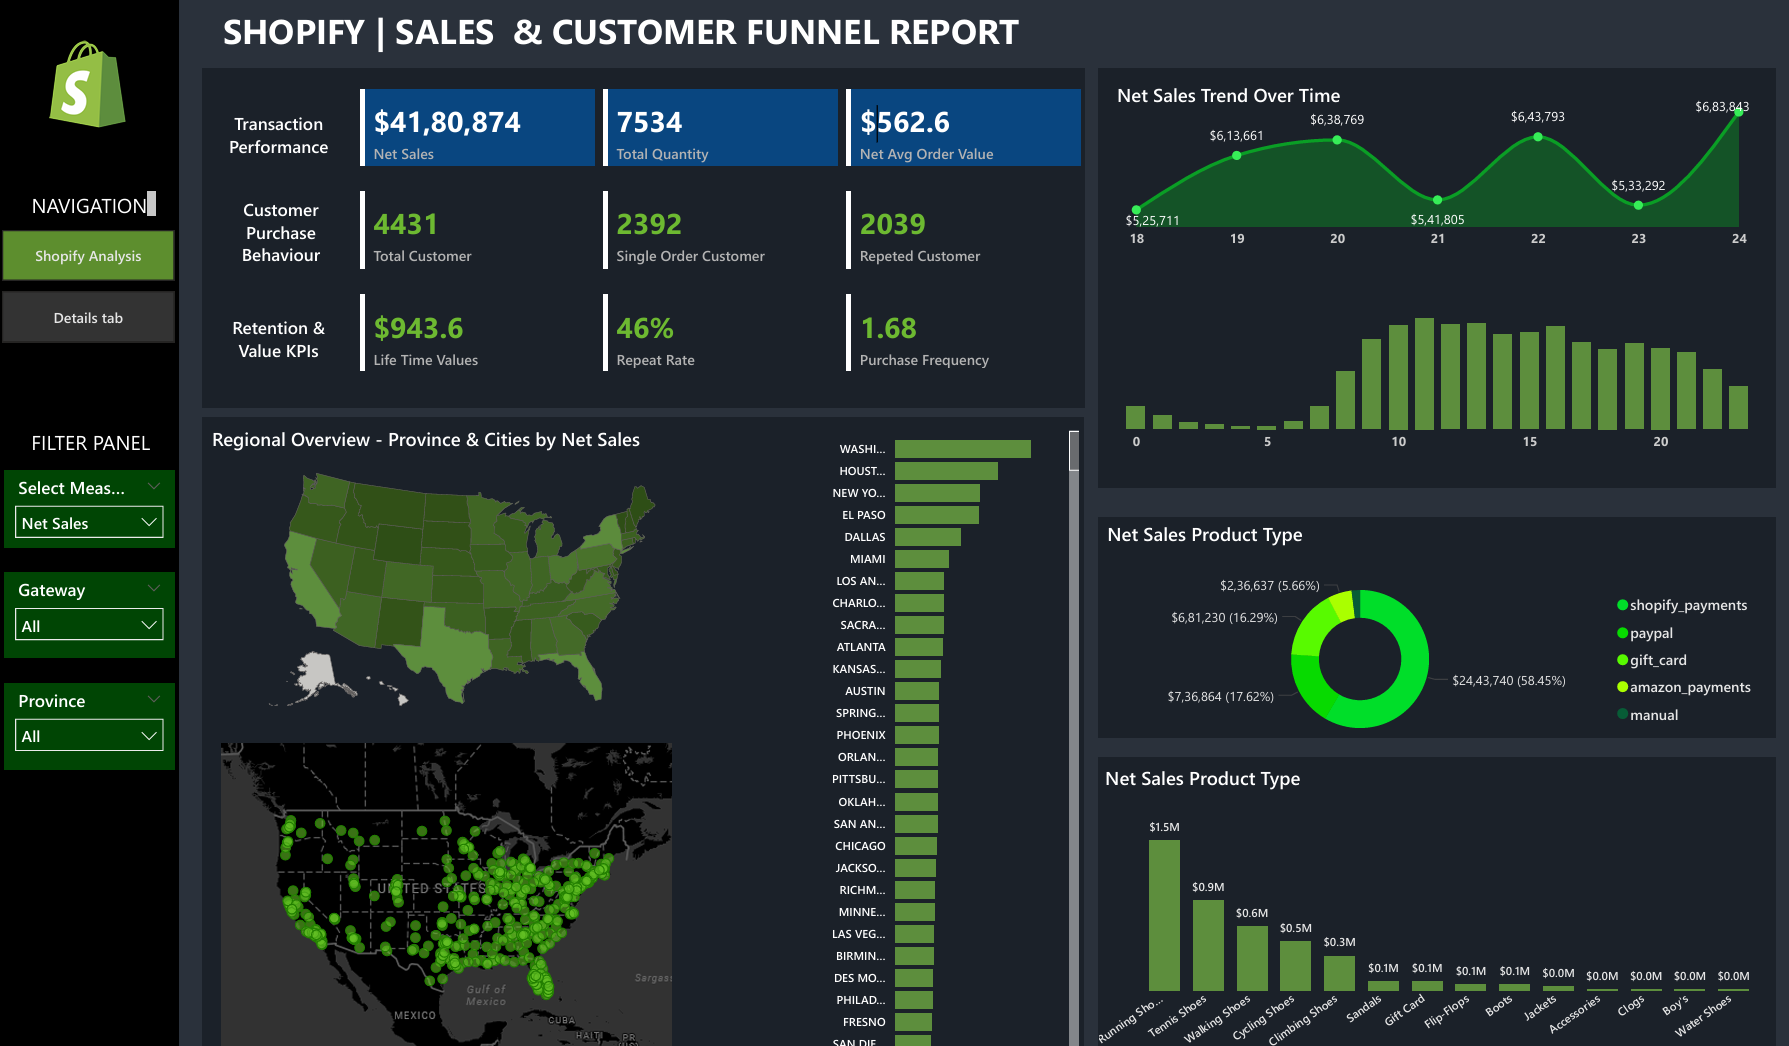

Layout of this report page (visuals, bound fields, positions):
{"tool":"powerbi","page":{"name":"Shopify Analysis","canvas":[1700,1000],"ordinal":0},"visuals":[{"type":"shape","box":[191,386.6,819.4,604.5],"z":0},{"type":"shape","box":[190.6,63,820.7,315.1],"z":1000},{"type":"shape","box":[0,0,170.1,1000.3],"z":2000},{"type":"textbox","box":[204.8,0,754.6,63],"z":3000},{"type":"cardVisual","fields":{"Data":["shopify_sales.Net Sales","shopify_sales.Total Quantity","shopify_sales.Net Avg Order Value"]},"box":[333.3,76.5,679.4,81.3],"z":4000},{"type":"cardVisual","fields":{"Data":["shopify_sales.Total per"]},"box":[191.4,78.1,141.9,94.1],"z":5000},{"type":"cardVisual","fields":{"Data":["shopify_sales.Total Customer","shopify_sales.Single Order Customer","shopify_sales.Repeted Customer"]},"box":[333.3,172.2,679.4,81.3],"z":6000},{"type":"cardVisual","fields":{"Data":["shopify_sales.Customer Purchase Behaviour"]},"box":[193,157.9,141.9,124.4],"z":7000},{"type":"cardVisual","fields":{"Data":["shopify_sales.Life Time Values","shopify_sales.Repeat Rate","shopify_sales.Purchase Frequency"]},"box":[333.3,267.9,679.4,81.3],"z":8000},{"type":"cardVisual","fields":{"Data":["shopify_sales.Retention"]},"box":[191.4,267.9,141.9,102.1],"z":9000},{"type":"slicer","fields":{"Values":["Select Measure.Select Measure"]},"box":[6.9,435.8,158.3,72],"z":10000},{"type":"shapeMap","fields":{"Value":["shopify_sales.Net Sales"],"Category":["shopify_sales.Billing Address Province"]},"box":[204.8,422.2,455,250],"z":11000},{"type":"map","fields":{"Category":["shopify_sales.CLocation"]},"box":[204.5,685.1,428.4,314.9],"z":12000},{"type":"clusteredBarChart","fields":{"Y":["shopify_sales.Net Sales"],"Category":["shopify_sales.CITY"]},"box":[759.7,386.6,250.7,604.5],"z":13000},{"type":"cardVisual","fields":{"Data":["shopify_sales.Map Title"]},"box":[182.7,370.2,532.5,59.9],"z":14000},{"type":"shape","box":[1023.9,62.7,630,390],"z":15000},{"type":"areaChart","fields":{"Y":["shopify_sales.Net Sales"],"Category":["shopify_sales.Invoice Date.Variation.Date Hierarchy.Day"]},"box":[1044.4,80.3,589.2,159.1],"z":16000},{"type":"columnChart","fields":{"Y":["shopify_sales.Net Sales"],"Category":["shopify_sales.Hour"]},"box":[1044.4,253.6,589.2,174.9],"z":17000},{"type":"cardVisual","fields":{"Data":["shopify_sales.Trend Title"]},"box":[1023.9,50.4,349.7,59.9],"z":18000},{"type":"shape","box":[1023.9,480.5,630.1,204.8],"z":19000},{"type":"donutChart","fields":{"Y":["shopify_sales.Net Sales"],"Category":["shopify_sales.Gateway"]},"box":[1024.3,524.8,620.9,173.3],"z":20000},{"type":"cardVisual","fields":{"Data":["shopify_sales.Gateway Title"]},"box":[1015,458,450.5,66.2],"z":21000},{"type":"shape","box":[1023.9,702.6,630.1,280.4],"z":22000},{"type":"columnChart","fields":{"Y":["shopify_sales.Net Sales"],"Category":["shopify_sales.Product Type"]},"box":[1019.6,740.6,630.3,242.7],"z":23000},{"type":"cardVisual","fields":{"Data":["shopify_sales.Product Title"]},"box":[1013.2,685.1,532.5,60.4],"z":24000},{"type":"image","box":[26.8,31.5,115,91.4],"z":25000},{"type":"slicer","fields":{"Values":["shopify_sales.Gateway"]},"box":[6.9,530.8,158.3,79.2],"z":26000},{"type":"slicer","fields":{"Values":["shopify_sales.Billing Address Province"]},"box":[6.9,634.4,158.3,79.2],"z":27000},{"type":"pageNavigator","box":[4.7,212.7,160.7,105.5],"z":28000},{"type":"textbox","box":[26.8,171.7,126,34.7],"z":29000},{"type":"textbox","box":[26.8,392.3,138.6,44.1],"z":30000}]}

Visuals, with their boxes on the page's 1700x1000 design canvas (x1, y1, x2, y2). These are canvas units, not pixel positions in the 1789x1046 screenshot, which may show the page scaled, cropped or inside an application window:
shape: [x1=191, y1=387, x2=1010, y2=991]
shape: [x1=191, y1=63, x2=1011, y2=378]
shape: [x1=0, y1=0, x2=170, y2=1000]
textbox: [x1=205, y1=0, x2=959, y2=63]
cardVisual - shopify_sales.Net Sales x shopify_sales.Total Quantity: [x1=333, y1=76, x2=1013, y2=158]
cardVisual - shopify_sales.Total per: [x1=191, y1=78, x2=333, y2=172]
cardVisual - shopify_sales.Total Customer x shopify_sales.Single Order Customer: [x1=333, y1=172, x2=1013, y2=254]
cardVisual - shopify_sales.Customer Purchase Behaviour: [x1=193, y1=158, x2=335, y2=282]
cardVisual - shopify_sales.Life Time Values x shopify_sales.Repeat Rate: [x1=333, y1=268, x2=1013, y2=349]
cardVisual - shopify_sales.Retention: [x1=191, y1=268, x2=333, y2=370]
slicer - Select Measure.Select Measure: [x1=7, y1=436, x2=165, y2=508]
shapeMap - shopify_sales.Net Sales x shopify_sales.Billing Address Province: [x1=205, y1=422, x2=660, y2=672]
map - shopify_sales.CLocation: [x1=204, y1=685, x2=633, y2=1000]
clusteredBarChart - shopify_sales.Net Sales x shopify_sales.CITY: [x1=760, y1=387, x2=1010, y2=991]
cardVisual - shopify_sales.Map Title: [x1=183, y1=370, x2=715, y2=430]
shape: [x1=1024, y1=63, x2=1654, y2=453]
areaChart - shopify_sales.Net Sales x shopify_sales.Invoice Date.Variation.Date Hierarchy.Day: [x1=1044, y1=80, x2=1634, y2=239]
columnChart - shopify_sales.Net Sales x shopify_sales.Hour: [x1=1044, y1=254, x2=1634, y2=428]
cardVisual - shopify_sales.Trend Title: [x1=1024, y1=50, x2=1374, y2=110]
shape: [x1=1024, y1=480, x2=1654, y2=685]
donutChart - shopify_sales.Net Sales x shopify_sales.Gateway: [x1=1024, y1=525, x2=1645, y2=698]
cardVisual - shopify_sales.Gateway Title: [x1=1015, y1=458, x2=1466, y2=524]
shape: [x1=1024, y1=703, x2=1654, y2=983]
columnChart - shopify_sales.Net Sales x shopify_sales.Product Type: [x1=1020, y1=741, x2=1650, y2=983]
cardVisual - shopify_sales.Product Title: [x1=1013, y1=685, x2=1546, y2=746]
image: [x1=27, y1=32, x2=142, y2=123]
slicer - shopify_sales.Gateway: [x1=7, y1=531, x2=165, y2=610]
slicer - shopify_sales.Billing Address Province: [x1=7, y1=634, x2=165, y2=714]
pageNavigator: [x1=5, y1=213, x2=165, y2=318]
textbox: [x1=27, y1=172, x2=153, y2=206]
textbox: [x1=27, y1=392, x2=165, y2=436]
